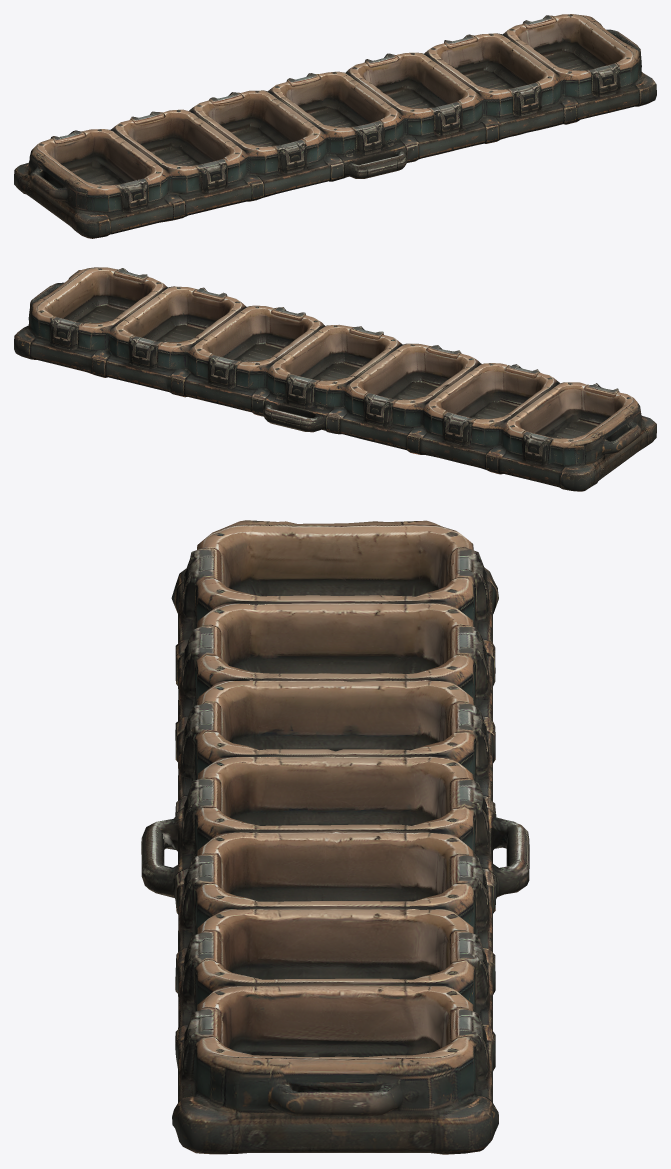
Rendered from Meshy_AI_Dock_Safe_0424154642_texture_fbx.fbx.
3 renders of one model, top to bottom at view 1: azimuth 30°, elevation 25°; view 2: azimuth 150°, elevation 25°; view 3: azimuth 270°, elevation 25°, orthographic. The views are drawn at different scales.
Visible parts, largest first — view 1: Mesh_0; view 2: Mesh_0; view 3: Mesh_0.
Part boxes in pixels (x1,y1,x2,y2): Mesh_0: [14, 14, 656, 238]; Mesh_0: [14, 267, 656, 491]; Mesh_0: [141, 520, 529, 1154].
Size of the model in its own units: 846 by 60 by 241.
1 material, 1 textured.
